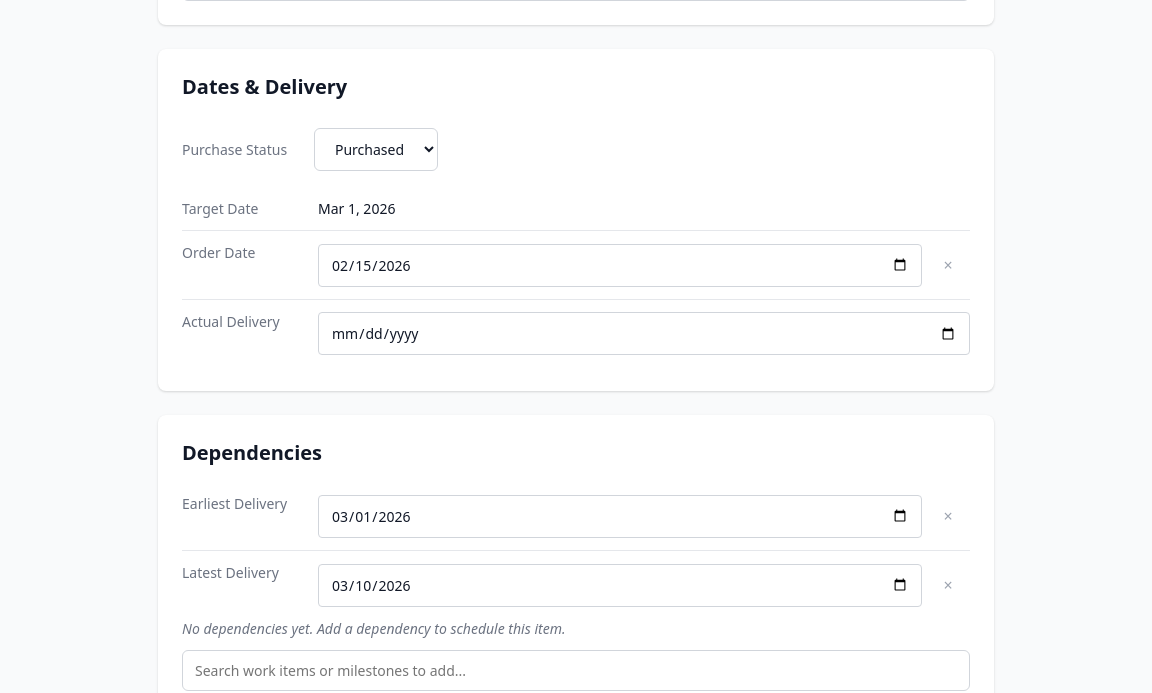
it: HouseholdItemDetailPage — inline date editing (Story #467) › Autosave error handling › shows an inline error message when updateHouseholdItem rejects on actual delivery blur
This screenshot has width=1152, height=693.
(page scrolled)
expect the date field labelled "Order Date" is shown: met, box [318,244,922,286]
Type "2026-03-20" into the date field labelled "Actual Delivery" at (644, 334), box [318,312,970,355]
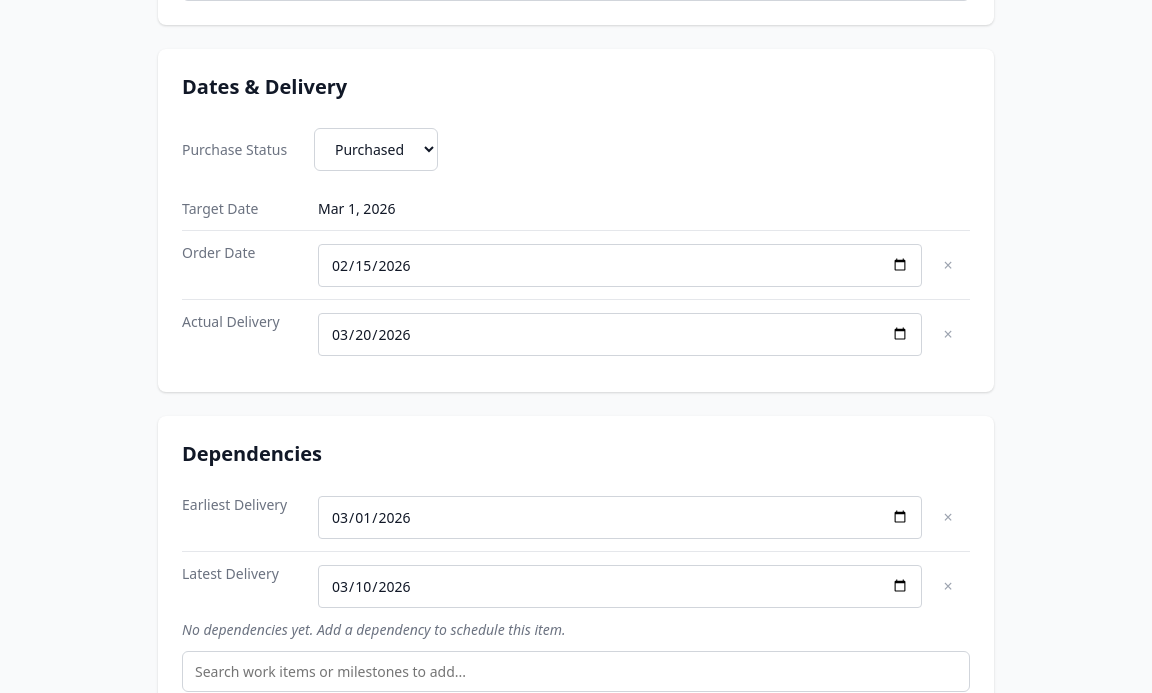
Leave the date field labelled "Actual Delivery", box [318,312,922,356]
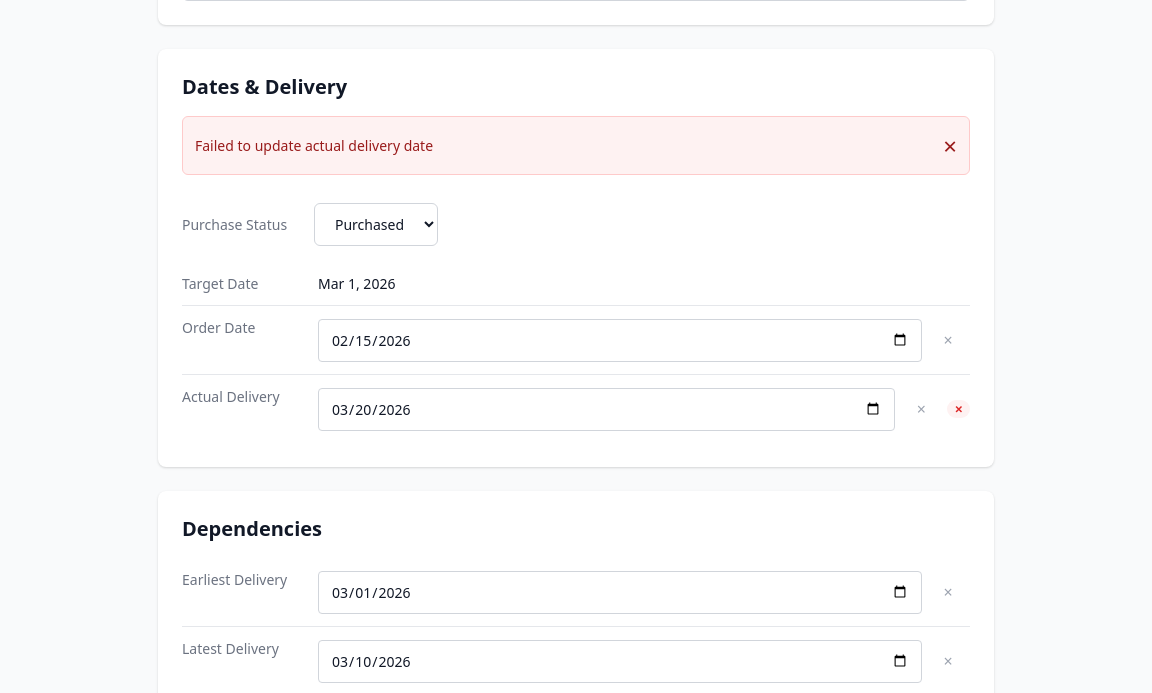
expect the message "Failed to update actual delivery date ×" is shown: met, box [182,116,970,175]
expect the message shows "Failed to update actual delivery date": met, box [195,136,433,155]
